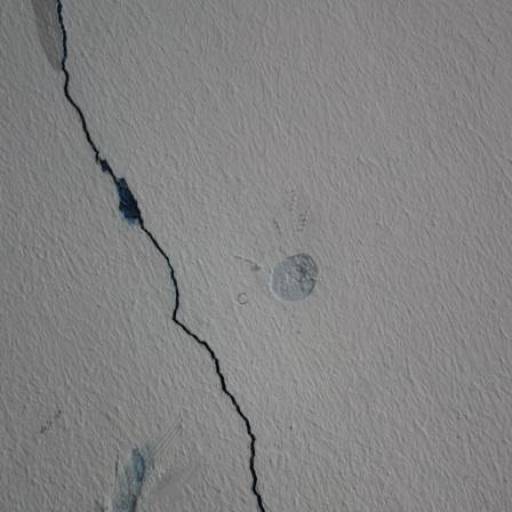spalling: (53, 4, 280, 512)
